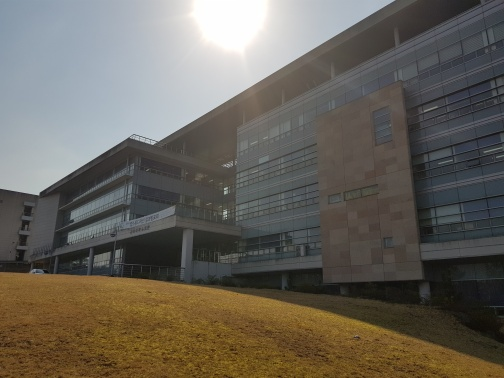Engineering College Building 4: (256, 41, 490, 287), (36, 159, 490, 278), (111, 194, 248, 264)
